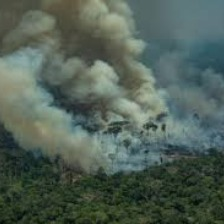incendio: (5, 71, 197, 180)
